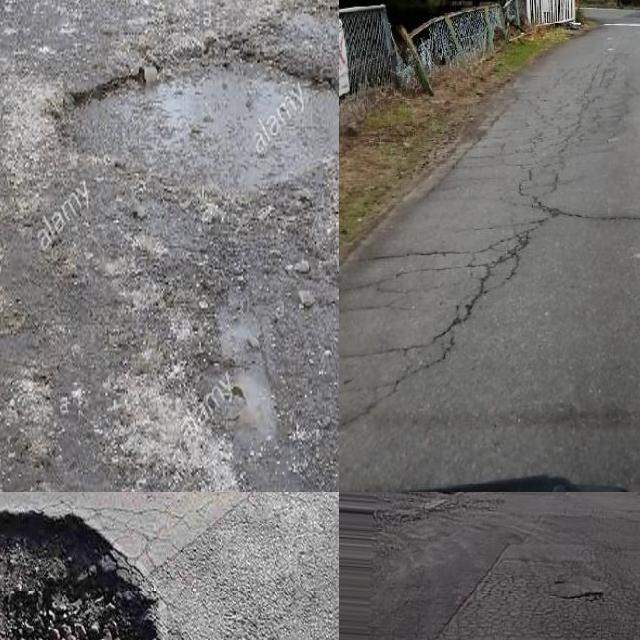Lubang: (51, 43, 339, 218), (0, 511, 155, 640)
Melintang: (543, 197, 640, 236)
Memanjang: (339, 209, 538, 439)
Retak Buaya: (419, 566, 640, 640)
